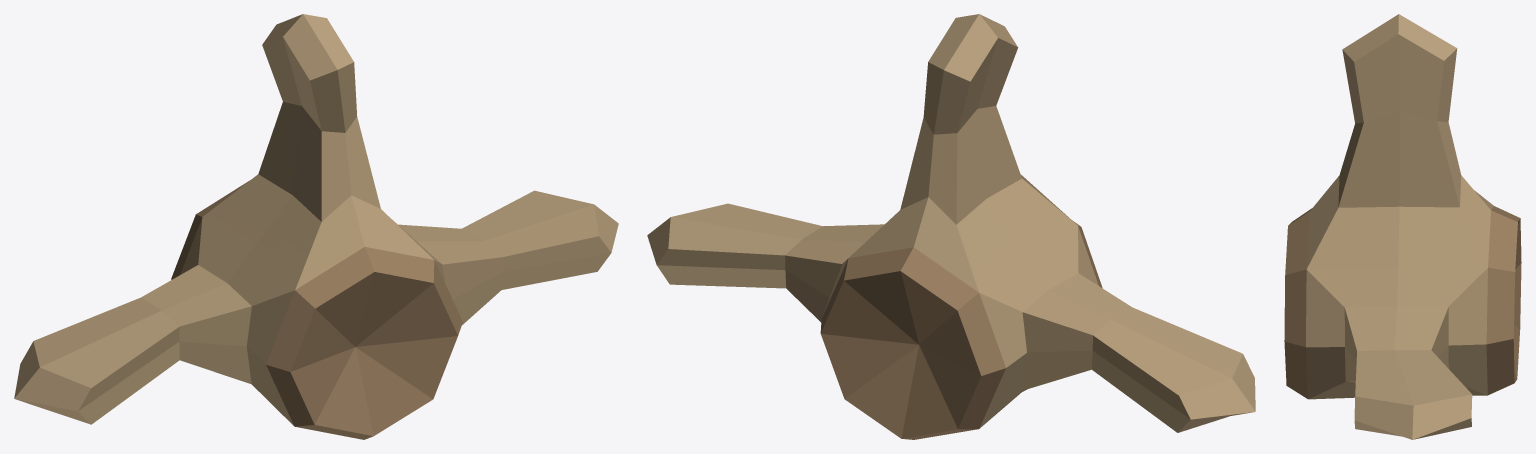
The model's file is SM_Env_Bone_Spine_02.glb.
3 views of the same model, side by side, from view 1: azimuth 30°, elevation 25°; view 2: azimuth 150°, elevation 25°; view 3: azimuth 270°, elevation 25° (orthographic). The views are drawn at different scales.
Parts seen in each view (by area): view 1: SM_Env_Bone_Spine_02; view 2: SM_Env_Bone_Spine_02; view 3: SM_Env_Bone_Spine_02.
Boxes of the visible parts, left/top/right/bottom form: SM_Env_Bone_Spine_02: left=14, top=14, right=618, bottom=439; SM_Env_Bone_Spine_02: left=647, top=14, right=1255, bottom=439; SM_Env_Bone_Spine_02: left=1284, top=14, right=1521, bottom=439.
Bounding box in the file's own units: 0.0587 × 0.0367 × 0.0211.
1 material, 1 textured.
